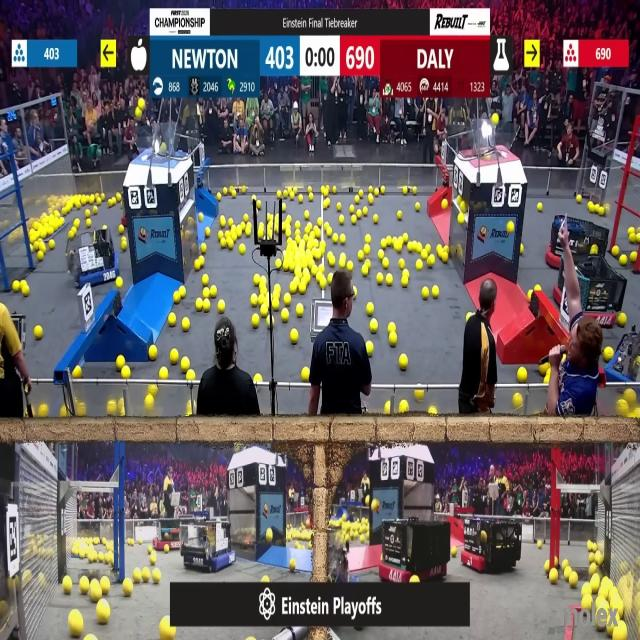ball_airborne: (370, 498, 377, 512), (138, 99, 145, 111), (160, 144, 168, 154), (492, 113, 499, 124), (136, 108, 142, 119)
ball_ground: (69, 613, 83, 638), (98, 603, 110, 626), (80, 579, 89, 596), (122, 581, 131, 598), (92, 587, 102, 602), (101, 580, 110, 596), (514, 393, 524, 407), (583, 596, 593, 610), (398, 354, 407, 369), (591, 579, 600, 594), (626, 387, 635, 402), (64, 579, 72, 595), (518, 367, 527, 381), (145, 396, 154, 410), (107, 403, 116, 417), (302, 366, 310, 381), (39, 406, 48, 419), (35, 325, 43, 339), (569, 573, 577, 587), (550, 569, 558, 583), (152, 568, 160, 582), (399, 399, 407, 413), (142, 568, 150, 582), (415, 389, 424, 401), (148, 384, 157, 396), (290, 329, 298, 342), (181, 318, 189, 331), (389, 334, 397, 347), (148, 347, 156, 360), (116, 355, 124, 368), (604, 348, 612, 361), (76, 407, 85, 418), (365, 342, 372, 356), (161, 366, 169, 378), (171, 350, 179, 362), (620, 314, 628, 326), (295, 306, 303, 318), (180, 357, 188, 369), (340, 254, 348, 266), (394, 240, 402, 252), (422, 244, 430, 256), (303, 270, 311, 282), (365, 304, 372, 317), (195, 299, 202, 312), (134, 569, 141, 582), (411, 574, 420, 584), (74, 365, 82, 376), (22, 285, 30, 296), (272, 300, 280, 311), (218, 302, 225, 314), (369, 320, 376, 332), (431, 286, 438, 298), (203, 300, 210, 312), (422, 287, 429, 299), (169, 314, 176, 326), (361, 266, 368, 278), (262, 304, 269, 316), (290, 282, 297, 294), (186, 369, 194, 379), (630, 251, 638, 261), (388, 322, 396, 332), (380, 239, 388, 249), (541, 364, 549, 374), (312, 249, 320, 259), (583, 585, 591, 595), (328, 253, 334, 266), (203, 287, 210, 298), (210, 286, 217, 297), (251, 294, 258, 305), (121, 365, 128, 376), (386, 275, 393, 286), (193, 261, 200, 272), (621, 254, 628, 265), (427, 255, 434, 266), (61, 408, 68, 419), (590, 563, 597, 574), (282, 310, 288, 322), (252, 315, 258, 327), (284, 293, 290, 305), (378, 274, 384, 286), (385, 404, 391, 416), (428, 408, 436, 417), (150, 554, 156, 566), (589, 202, 595, 214), (628, 235, 636, 244), (203, 276, 210, 286), (611, 246, 618, 256), (319, 279, 326, 289), (408, 242, 415, 252), (331, 234, 338, 244), (562, 559, 569, 569), (283, 262, 290, 272), (252, 276, 259, 286), (294, 268, 301, 278), (417, 261, 423, 272), (298, 283, 304, 294), (116, 278, 122, 289), (220, 216, 226, 227), (120, 240, 126, 251), (12, 281, 18, 292), (507, 221, 513, 232), (564, 569, 570, 580), (33, 242, 41, 250), (37, 251, 44, 260), (245, 229, 252, 238), (274, 285, 281, 294), (316, 217, 323, 226), (443, 245, 450, 254), (240, 244, 246, 254), (401, 278, 407, 288), (289, 559, 295, 569), (48, 240, 54, 250), (180, 286, 186, 296), (458, 214, 464, 224), (379, 249, 385, 259), (323, 200, 329, 210), (543, 561, 549, 571), (315, 230, 321, 240), (201, 244, 207, 254), (383, 260, 389, 270), (174, 292, 180, 302), (306, 222, 312, 232), (363, 244, 369, 254), (398, 258, 404, 268), (436, 245, 442, 255), (258, 230, 264, 240), (396, 210, 402, 220), (259, 278, 265, 288), (598, 206, 604, 216), (589, 554, 595, 564), (588, 540, 594, 550), (254, 375, 261, 383), (363, 236, 370, 244), (313, 240, 320, 248), (239, 230, 246, 238), (268, 317, 273, 328), (387, 237, 392, 248), (264, 574, 270, 583), (276, 261, 282, 270), (402, 234, 408, 243), (87, 634, 96, 640), (372, 214, 378, 223), (297, 193, 303, 202), (258, 294, 264, 303), (318, 266, 324, 275), (449, 548, 455, 557), (206, 229, 212, 238), (312, 266, 318, 275), (460, 202, 466, 211), (348, 262, 353, 272), (341, 235, 346, 245), (227, 238, 232, 248), (294, 230, 299, 240), (327, 274, 332, 284), (356, 210, 361, 220), (367, 193, 372, 203), (324, 221, 329, 231), (241, 222, 248, 229), (220, 240, 226, 248), (218, 232, 224, 240), (362, 208, 368, 216), (402, 270, 408, 278), (84, 209, 90, 217), (68, 232, 74, 240), (268, 212, 274, 220), (115, 192, 121, 200), (276, 190, 282, 198), (401, 186, 407, 194), (354, 197, 360, 205), (108, 200, 114, 208), (349, 205, 355, 213), (308, 241, 314, 249), (286, 230, 292, 238), (286, 215, 292, 223), (340, 215, 345, 224), (444, 201, 449, 210), (118, 224, 123, 233), (444, 253, 449, 262), (227, 217, 232, 226), (338, 203, 343, 212), (199, 213, 204, 222), (358, 251, 363, 260), (275, 213, 280, 222), (360, 534, 365, 543), (294, 220, 300, 227), (534, 285, 540, 292), (542, 377, 548, 384), (93, 208, 99, 215), (629, 226, 635, 233), (60, 217, 66, 224), (244, 214, 249, 222), (537, 204, 542, 212), (465, 313, 470, 321), (165, 544, 170, 552), (88, 219, 93, 227), (74, 218, 79, 226), (353, 287, 357, 297), (201, 256, 205, 266), (97, 199, 102, 207), (233, 234, 238, 242), (269, 222, 274, 230), (554, 558, 559, 566), (287, 239, 292, 247), (0, 305, 5, 313), (352, 214, 356, 223), (576, 194, 580, 203), (306, 211, 310, 220), (520, 245, 524, 254), (256, 201, 260, 210), (282, 222, 286, 231), (103, 223, 108, 230), (216, 192, 221, 199), (233, 190, 238, 197), (381, 187, 386, 194), (376, 188, 381, 195), (320, 241, 325, 248), (413, 187, 418, 194), (331, 186, 336, 193), (222, 187, 227, 194), (416, 204, 420, 212), (537, 540, 541, 548), (148, 544, 152, 552), (528, 290, 532, 298), (76, 202, 80, 210), (289, 192, 294, 198), (186, 412, 191, 418), (308, 195, 312, 202), (305, 235, 309, 242), (282, 205, 286, 212), (99, 195, 103, 202), (252, 193, 256, 200), (367, 185, 371, 192), (72, 226, 76, 232)
goal: (466, 123, 521, 160), (126, 128, 187, 160)
robot_blue: (182, 518, 235, 573), (74, 230, 121, 286), (607, 333, 640, 387)
robot_red: (380, 518, 448, 585), (580, 253, 629, 328), (460, 518, 522, 574), (546, 214, 594, 268), (153, 518, 183, 549)
